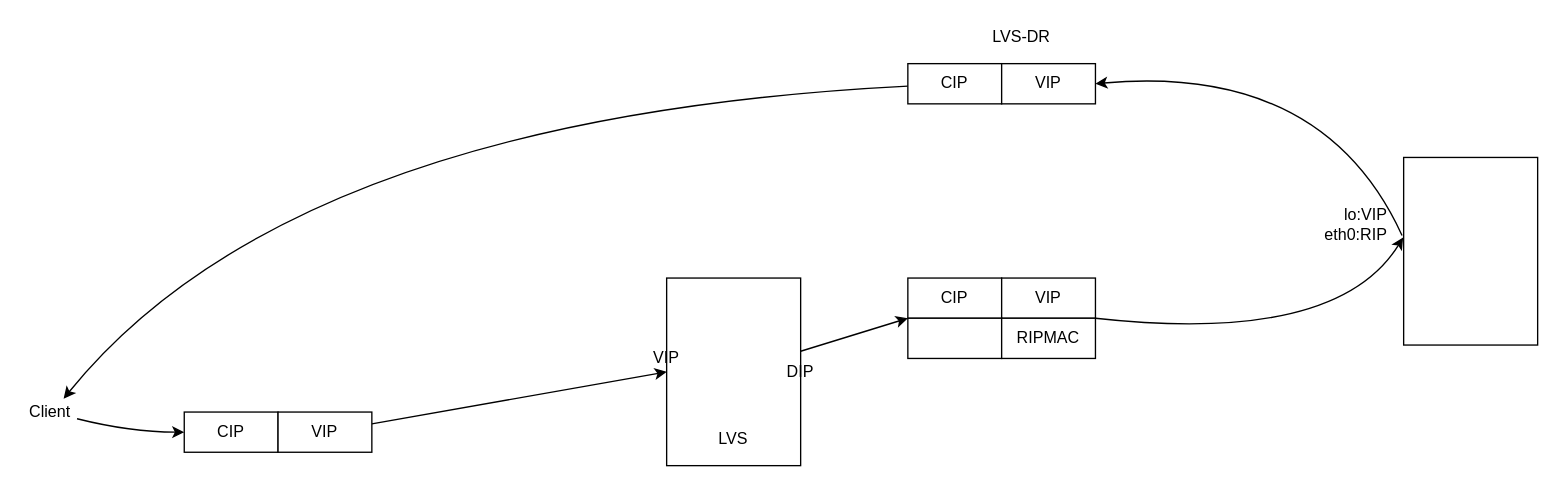
This 1561x489 diagram has some shape labels left out. Here are the shapes that lost their labels. From the top down, the centre of each, then its label:
At [1470,250]: "Real Server1".
At [954,337]: "DIPMAC".
